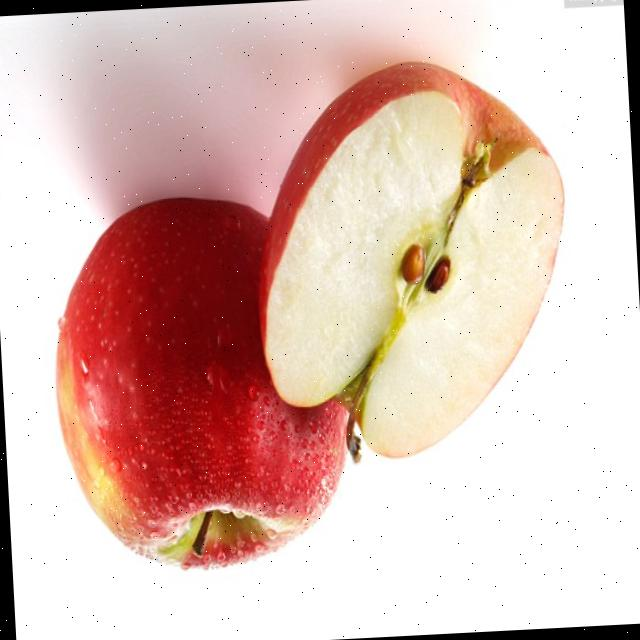Apel: (246, 54, 578, 468), (46, 189, 357, 580)
